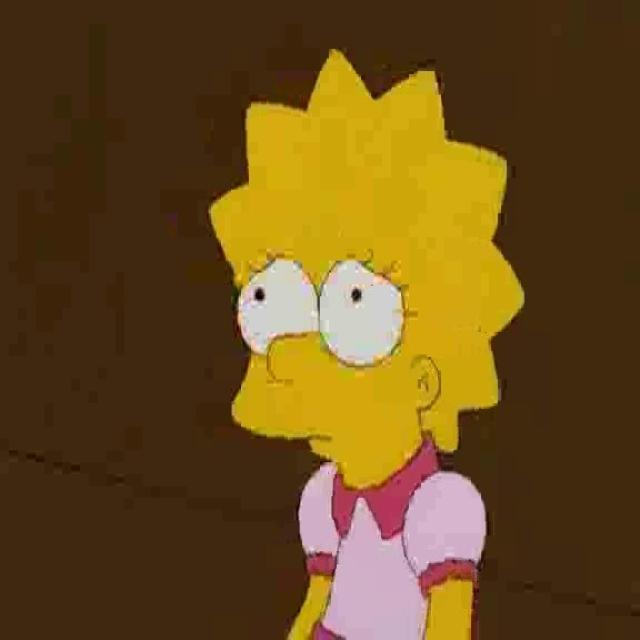Lisa Simpson: (205, 42, 528, 491)
